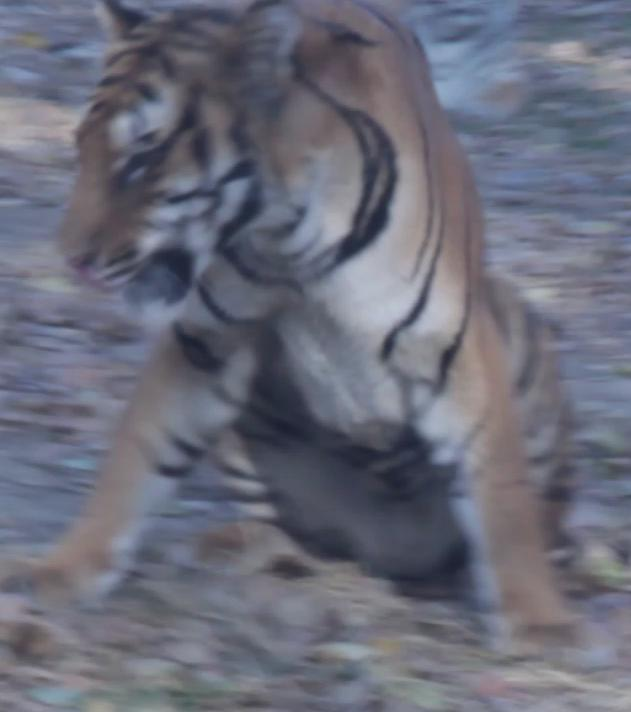tiger: (0, 0, 585, 649)
